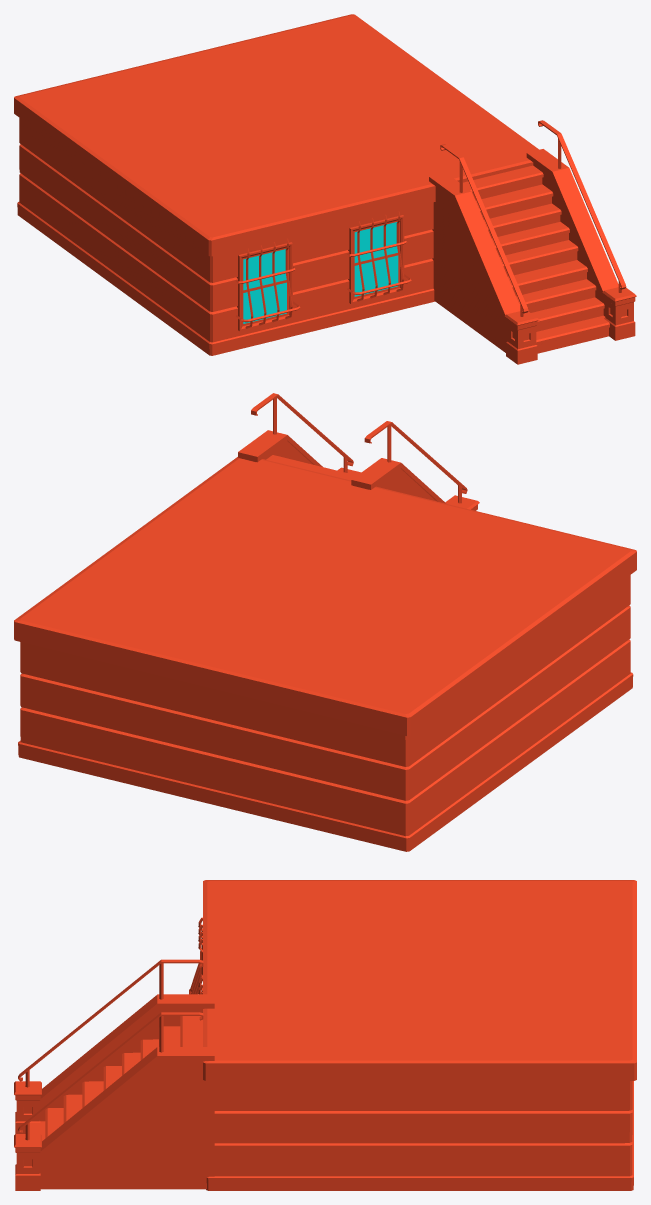
Rendered from SM_Squarehouse_Bottom_C_F_City.fbx.
The picture shows the model from 3 angles, top to bottom: view 1: azimuth 30°, elevation 25°; view 2: azimuth 150°, elevation 25°; view 3: azimuth 270°, elevation 25°; orthographic projection. The views are drawn at different scales.
Visible parts, largest first — view 1: SM_Squarehouse_Bottom_C_F_City; view 2: SM_Squarehouse_Bottom_C_F_City; view 3: SM_Squarehouse_Bottom_C_F_City.
Boxes of the visible parts, x1=… form: SM_Squarehouse_Bottom_C_F_City: x1=14, y1=14, x2=636, y2=364; SM_Squarehouse_Bottom_C_F_City: x1=14, y1=393, x2=636, y2=851; SM_Squarehouse_Bottom_C_F_City: x1=14, y1=880, x2=636, y2=1190.
Size of the model in its own units: 6.14 by 2.7 by 8.79.
